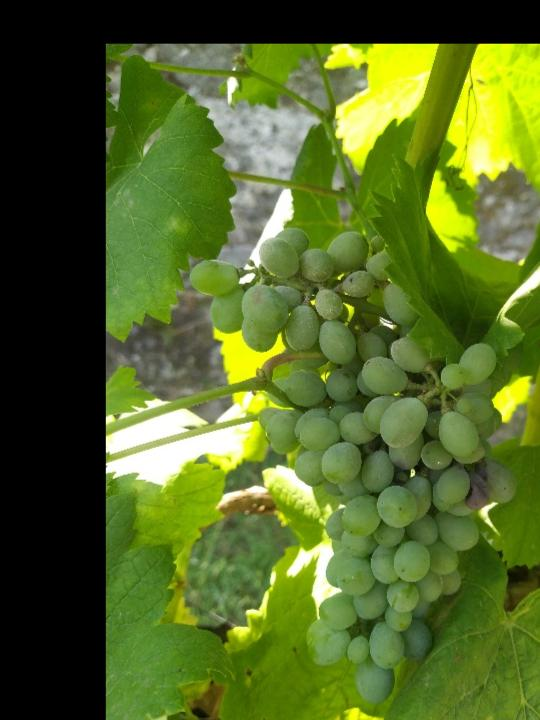grape: (185, 226, 527, 716)
